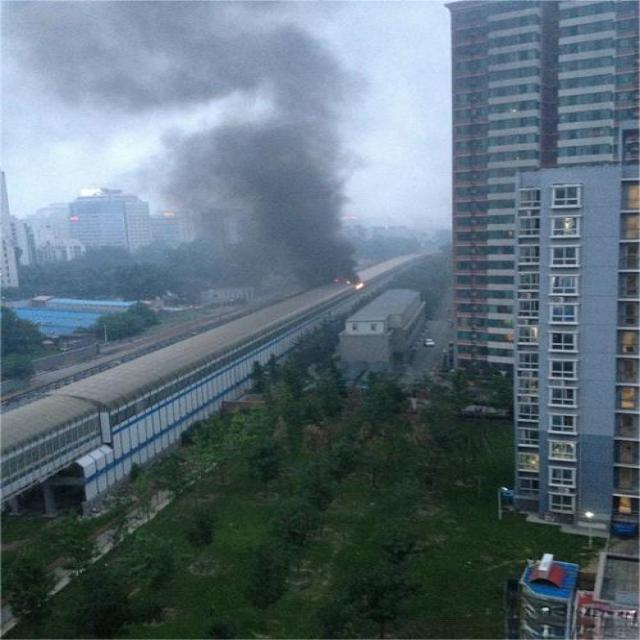Smoke: (28, 0, 354, 278)
